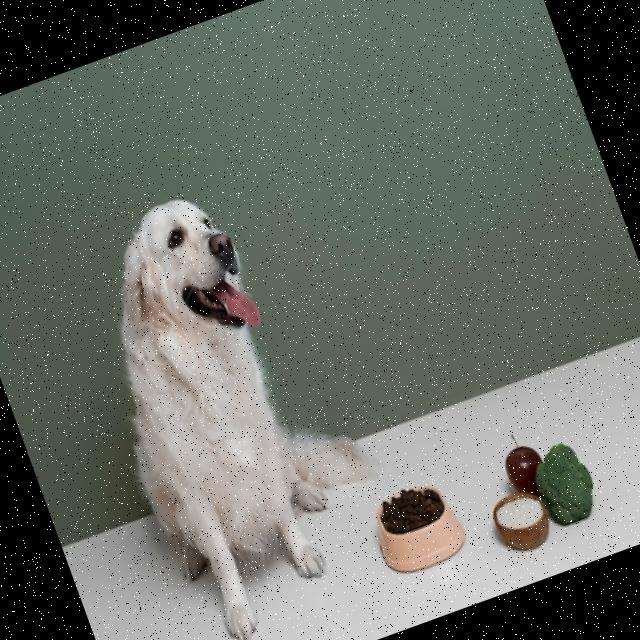Dog: (54, 166, 419, 640)
